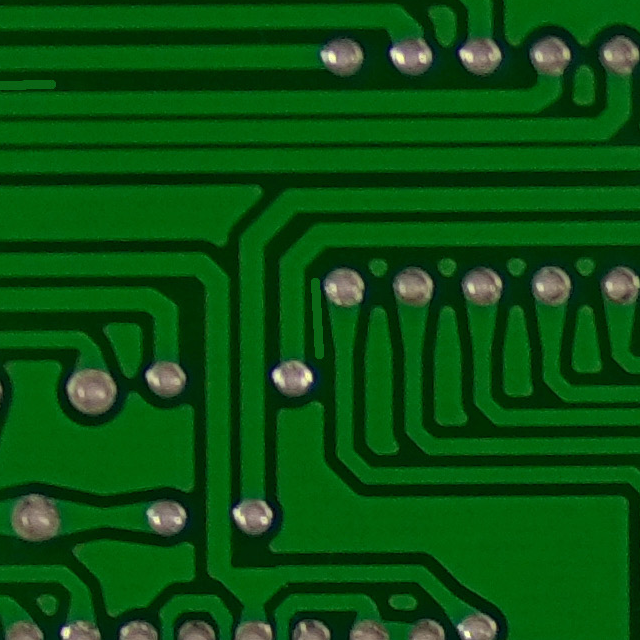spurious_copper: (295, 268, 345, 373), (0, 61, 76, 106)
